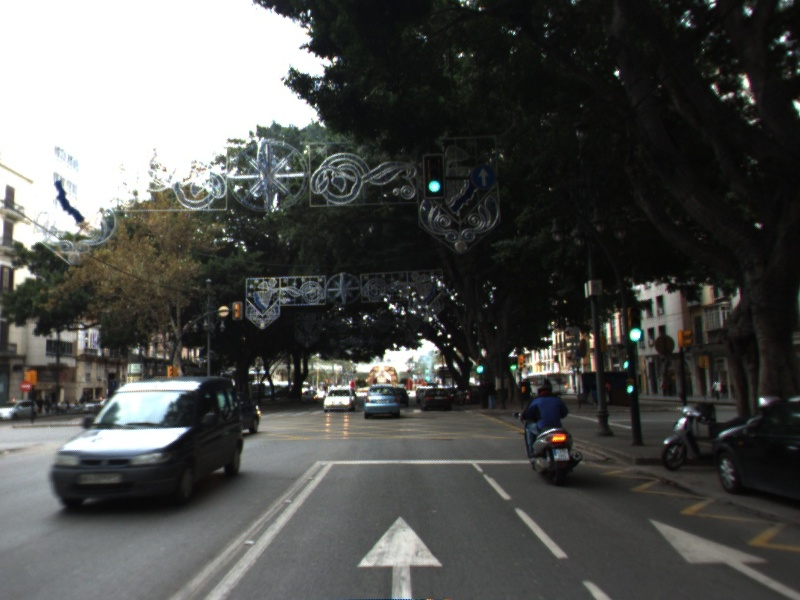STRAIGHT: (644, 514, 800, 600), (353, 511, 446, 600)
